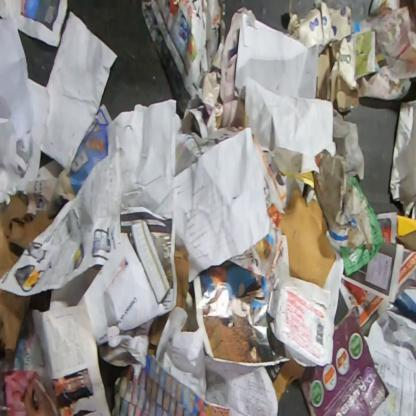cardboard: (296, 304, 391, 415), (286, 0, 377, 114), (312, 152, 374, 253), (278, 187, 336, 287), (0, 189, 55, 281), (332, 107, 365, 181), (0, 288, 32, 357), (265, 359, 306, 404), (174, 247, 190, 310), (147, 314, 167, 357), (396, 214, 415, 252)
rigid_plastic: (266, 276, 335, 367)
